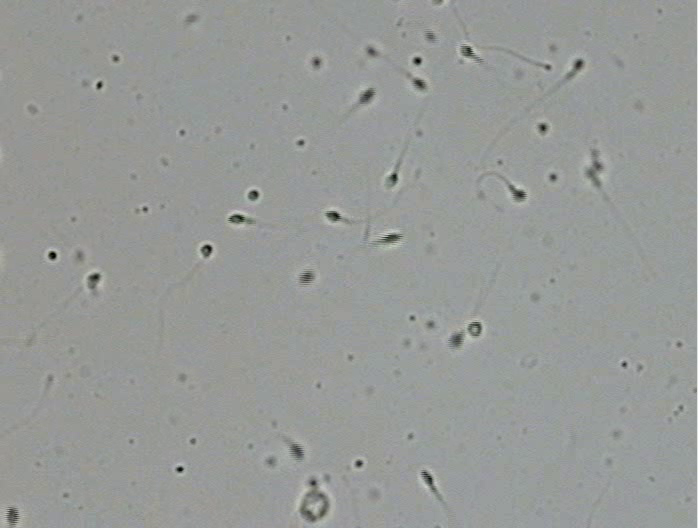Impurity: (299, 477, 329, 523)
S: (584, 169, 603, 188), (297, 268, 316, 287), (509, 186, 529, 203), (377, 233, 403, 245), (288, 443, 305, 461), (447, 331, 464, 349), (359, 87, 376, 105), (5, 506, 20, 526), (420, 469, 434, 487), (87, 272, 101, 289), (468, 321, 482, 337), (411, 78, 427, 92), (324, 211, 342, 223), (384, 173, 398, 188), (459, 44, 474, 58), (227, 214, 247, 224), (200, 244, 213, 258), (592, 159, 605, 172), (424, 29, 436, 43), (247, 190, 260, 201), (537, 123, 549, 134), (574, 59, 584, 72), (366, 46, 377, 57), (412, 56, 422, 66), (313, 58, 321, 68), (433, 1, 444, 5)
